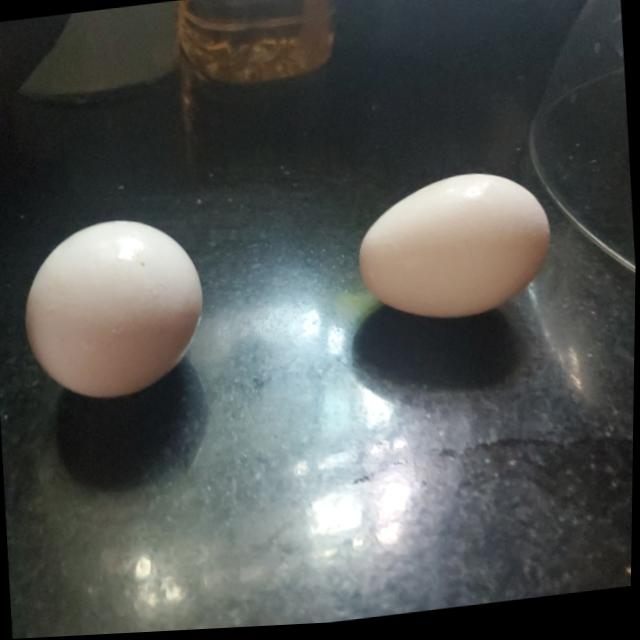egg: (18, 211, 212, 410), (351, 173, 553, 336)
